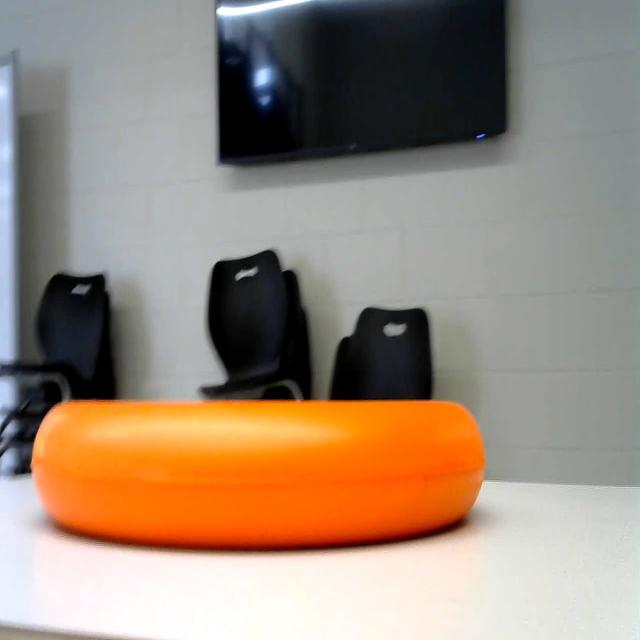note: (27, 385, 494, 559)
